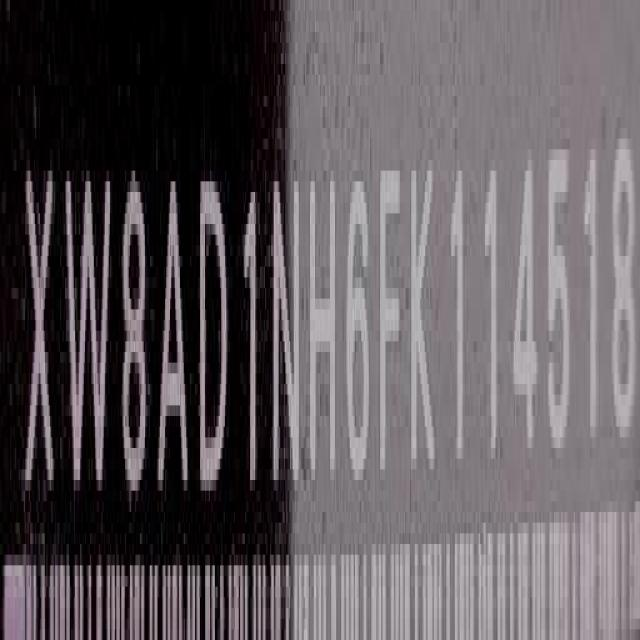1: (449, 158, 472, 480), (240, 168, 260, 502), (482, 154, 502, 476), (581, 129, 600, 459)
4: (512, 144, 542, 472)
5: (548, 135, 574, 466)
6: (346, 171, 373, 492)
8: (121, 166, 150, 511), (612, 130, 640, 449)
A: (158, 170, 190, 508)
D: (201, 171, 233, 508)
F: (379, 154, 403, 474)
H: (310, 169, 338, 497)
K: (408, 157, 438, 491)
N: (274, 166, 303, 502)
W: (65, 153, 112, 514)
X: (20, 151, 54, 519)
